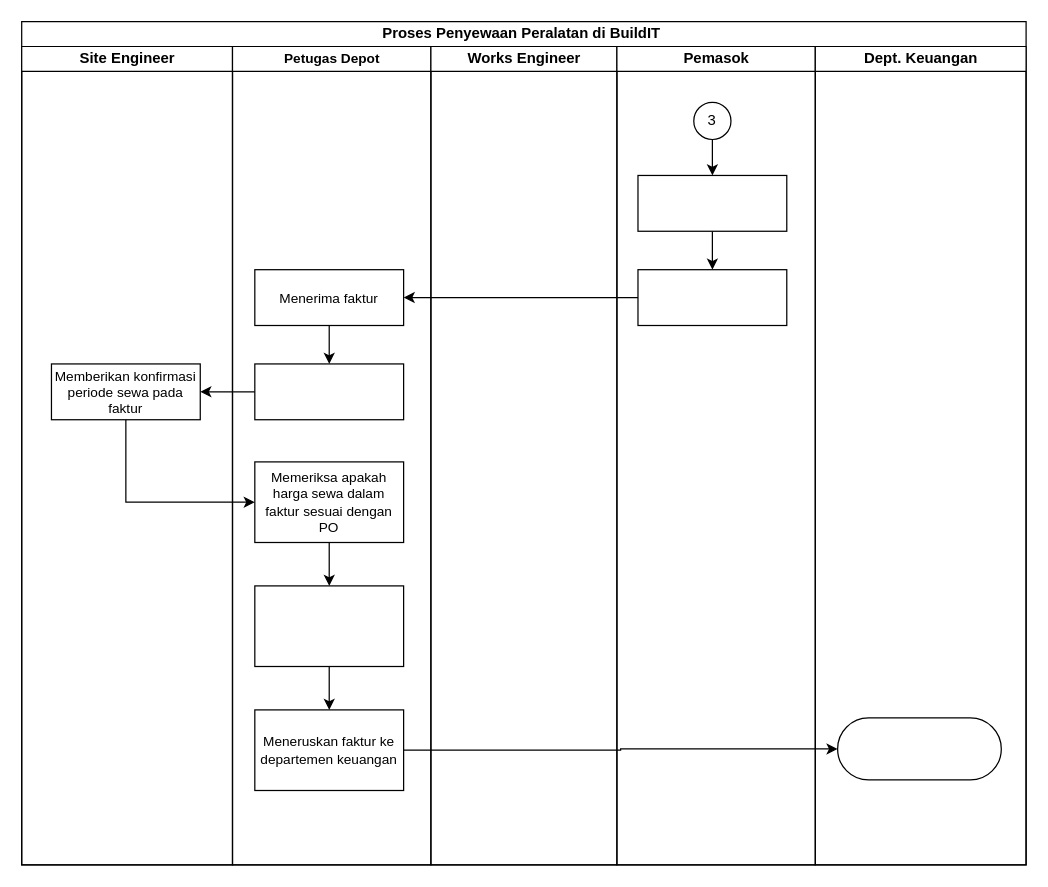
Image size: 1048x887. Some labels were removed from this diagram. Here are the shapes that lost their labels. From the top down, the centre of each, then its label:
At [712,202]: "Mengambil kembali peralatan di lokasi konstruksi".
At [712,297]: "Mengirimkan faktur ke petugas melalui email".
At [329,391]: "Meminta konfirmasi periode sewa pada faktur".
At [329,625]: "Memperbarui rincian penyewaan di spreadsheet".
At [918,748]: "Memproses biaya penyewaan hingga pembayaran dilakukan".
